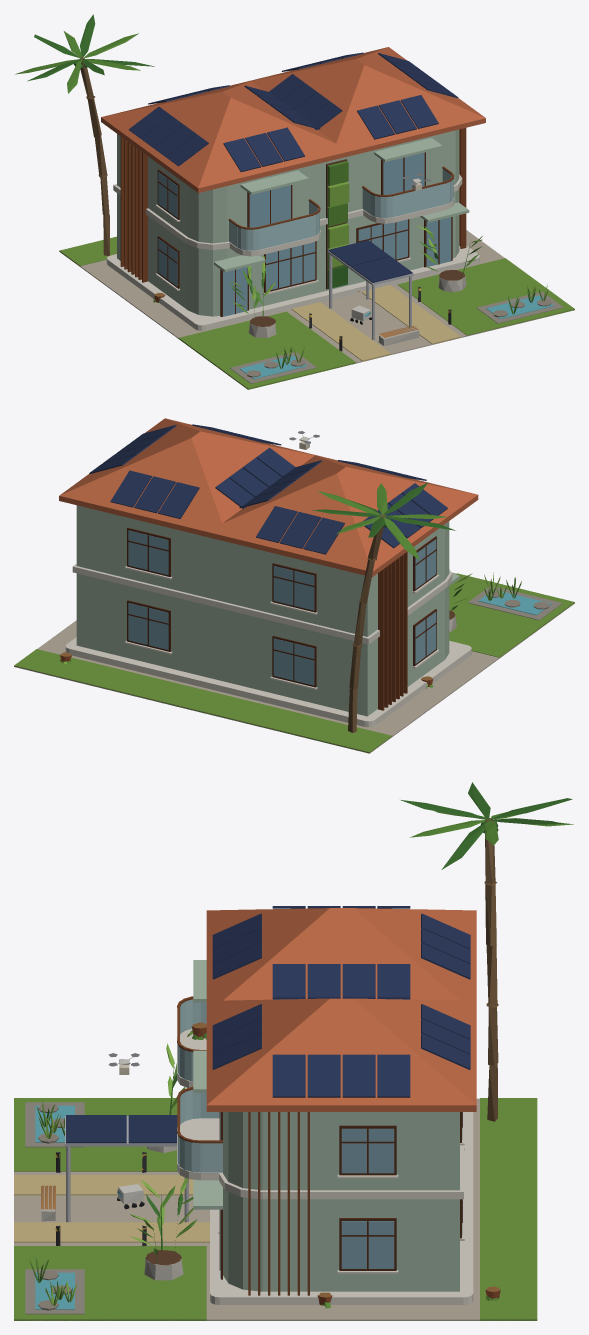
File: home_2.glb
The picture shows the model from 3 angles, top to bottom: view 1: azimuth 30°, elevation 25°; view 2: azimuth 150°, elevation 25°; view 3: azimuth 270°, elevation 25°; orthographic projection. The views are drawn at different scales.
Parts seen in each view (by area): view 1: body; view 2: body; view 3: body.
Part boxes in pixels (x1,y1,x2,y2): body: [15, 14, 574, 389]; body: [14, 418, 574, 753]; body: [14, 782, 573, 1320].
Size of the model in its own units: 18.66 by 10.57 by 17.04.
